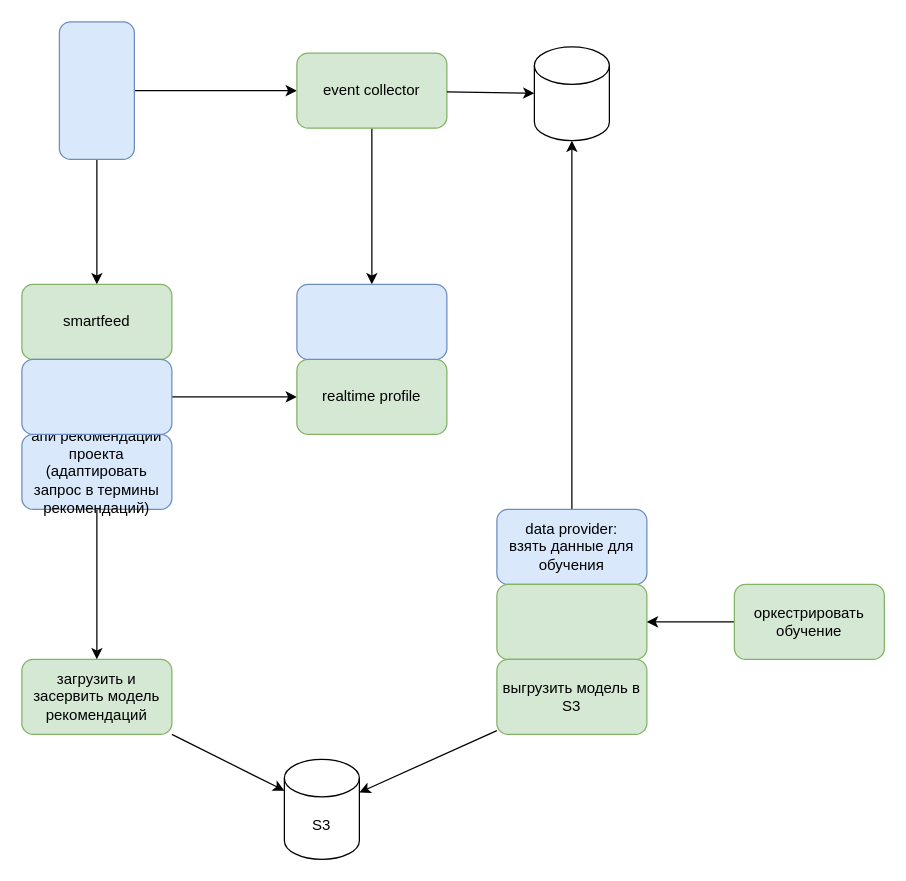
Image size: 906x881. Some labels were removed from this diagram. Each missing label, with the centre of its shape:
"app" belongs at point (96, 90).
"dwh" belongs at point (571, 93).
"адаптер событий к профилю" belongs at point (371, 321).
"обучить полно или инкрементально" belongs at point (571, 621).
"субфид рекомендаций" belongs at point (96, 396).
